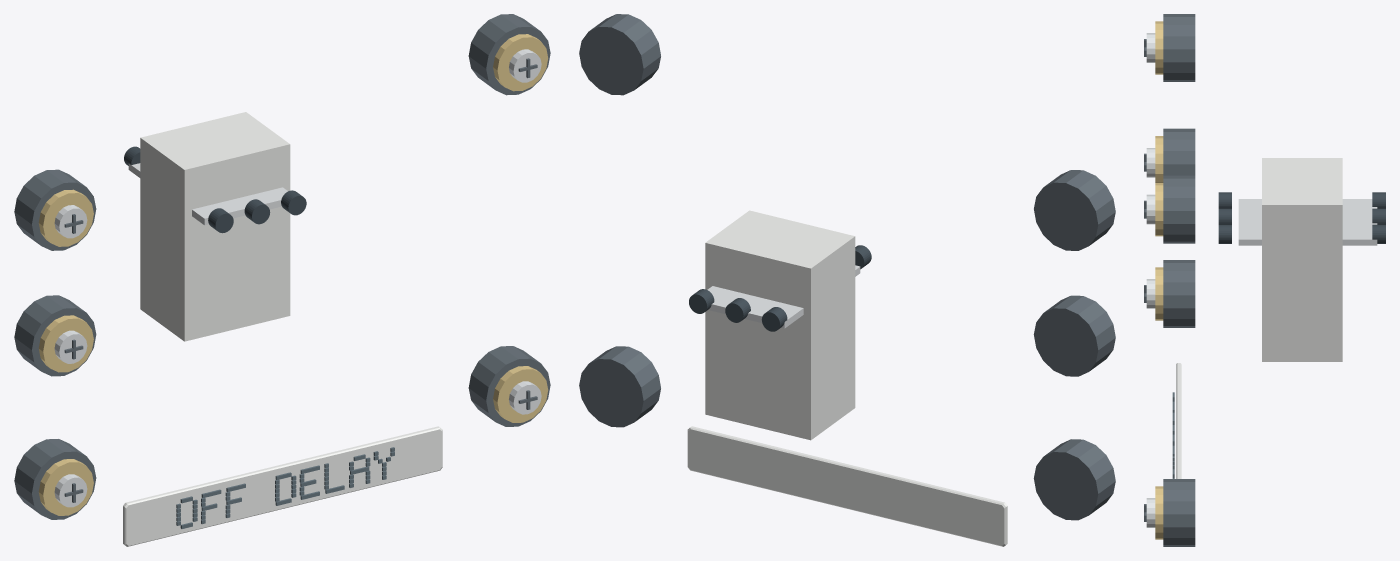
Rendered from timerOffDelay.glb.
The picture shows the model from 3 angles, left to right: view 1: azimuth 30°, elevation 25°; view 2: azimuth 150°, elevation 25°; view 3: azimuth 270°, elevation 25°; orthographic projection. The views are drawn at different scales.
Visible parts, largest first — view 1: timerOffDelay-preview; view 2: timerOffDelay-preview; view 3: timerOffDelay-preview.
Part boxes in pixels (box(x1,y1,x2,y2)): timerOffDelay-preview: box(14, 14, 550, 546); timerOffDelay-preview: box(579, 14, 1115, 546); timerOffDelay-preview: box(1144, 14, 1385, 546).
Size of the model in its own units: 2.52 by 2.01 by 1.11.
